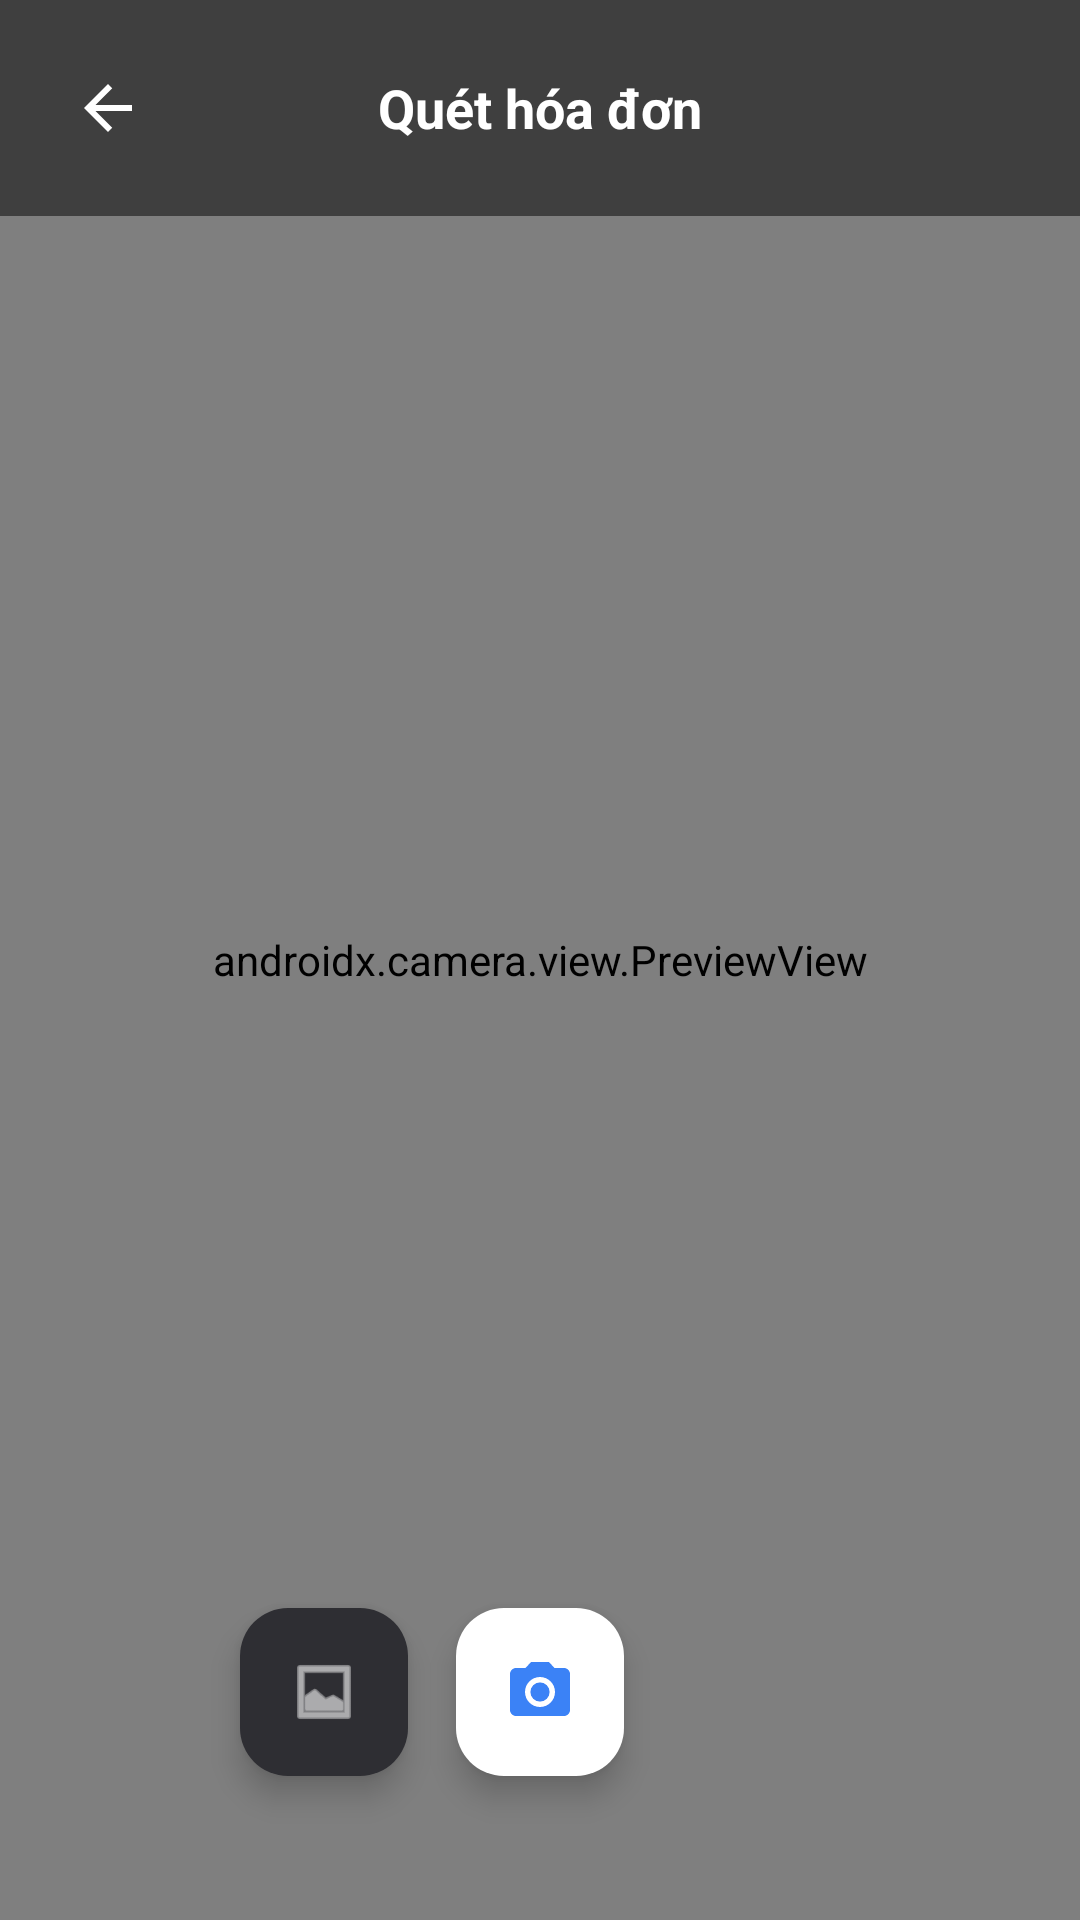

Where to tap for icons on this 1080px x 1920px app screen, as point (x, y):
Chọn từ thư viện: point (324, 1692)
Chụp ảnh: point (540, 1692)
Hủy: point (108, 108)
